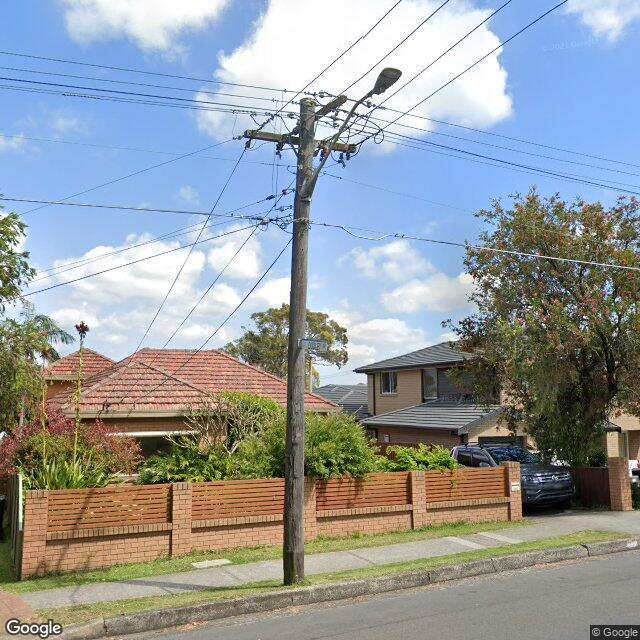crossarm: (244, 129, 356, 153), (291, 95, 347, 136)
streetlight: (306, 68, 404, 198)
timber-pole: (284, 97, 317, 583)
